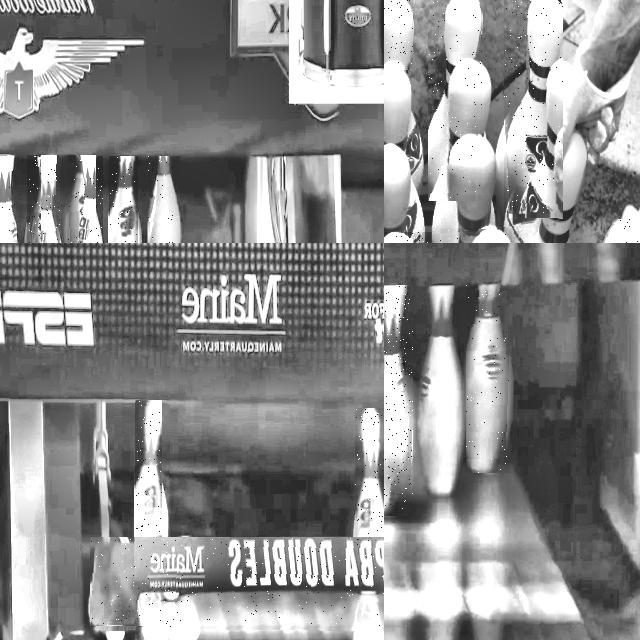bowling-pins: (504, 0, 563, 215), (504, 61, 572, 243), (428, 0, 482, 200), (466, 283, 508, 473), (384, 285, 413, 514), (531, 132, 587, 243), (455, 134, 496, 243), (355, 408, 384, 537), (452, 60, 492, 150), (136, 401, 161, 537), (384, 64, 411, 174), (70, 156, 103, 243), (148, 157, 180, 243), (384, 143, 412, 238), (30, 156, 58, 243), (110, 156, 137, 243), (68, 156, 95, 243), (431, 164, 458, 243), (384, 0, 413, 67), (0, 156, 15, 243), (405, 178, 425, 243), (29, 156, 41, 243), (607, 219, 638, 243), (40, 156, 56, 195)
sweep board: (91, 538, 384, 627)
